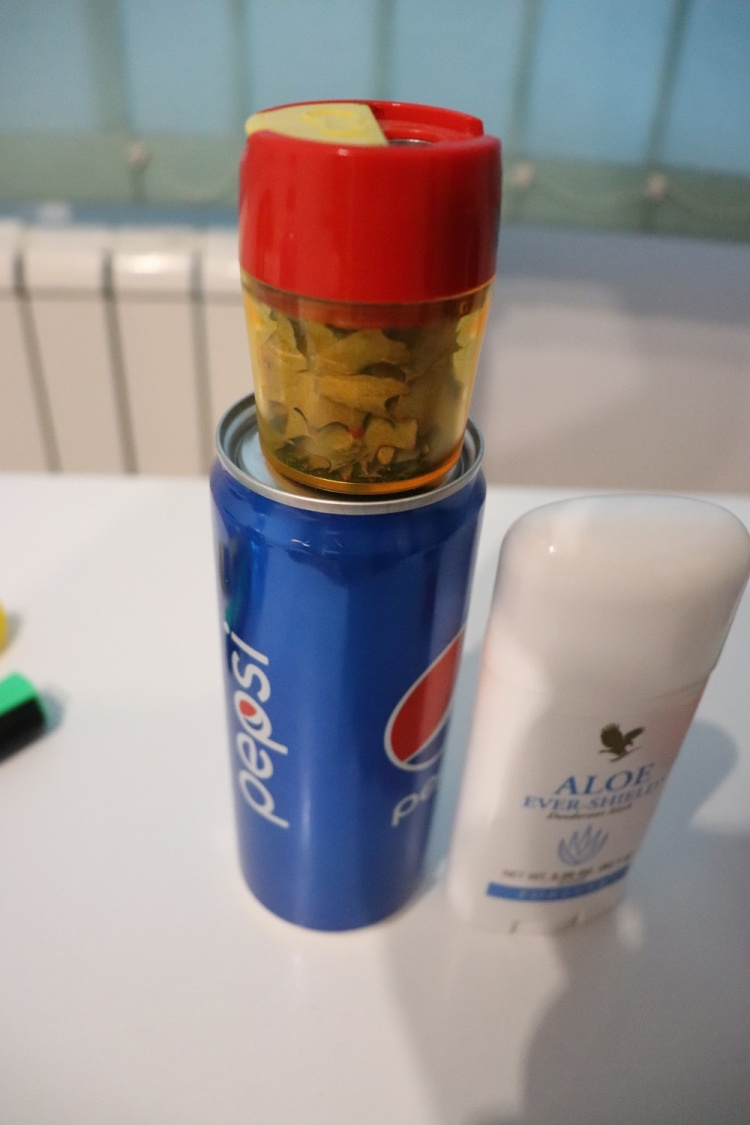pepsi: (208, 383, 491, 944)
